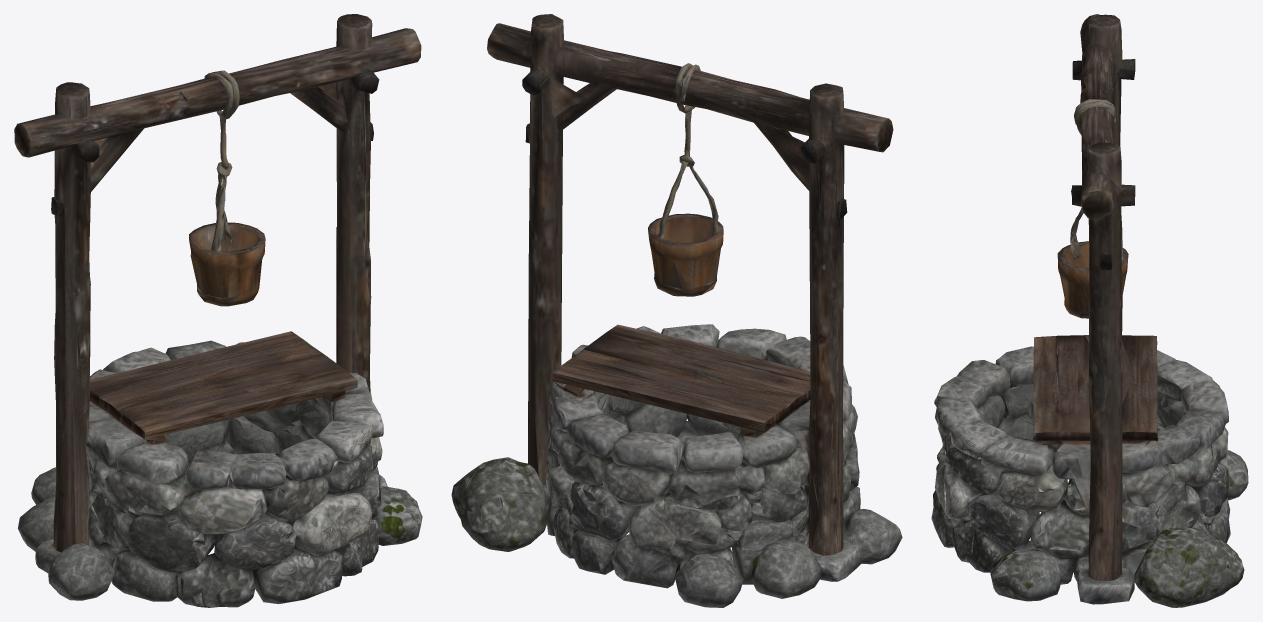
Rendered from well.glb.
The picture shows the model from 3 angles, left to right: view 1: azimuth 30°, elevation 25°; view 2: azimuth 150°, elevation 25°; view 3: azimuth 270°, elevation 25°; orthographic projection. The views are drawn at different scales.
Parts seen in each view (by area): view 1: well; view 2: well; view 3: well.
Part boxes in pixels (x1,y1,x2,y2): well: (14, 14, 422, 607); well: (451, 14, 902, 607); well: (931, 14, 1248, 607).
Bounding box in the file's own units: 1.71 × 2 × 1.29.
Materials: 1 (1 with a texture image).
